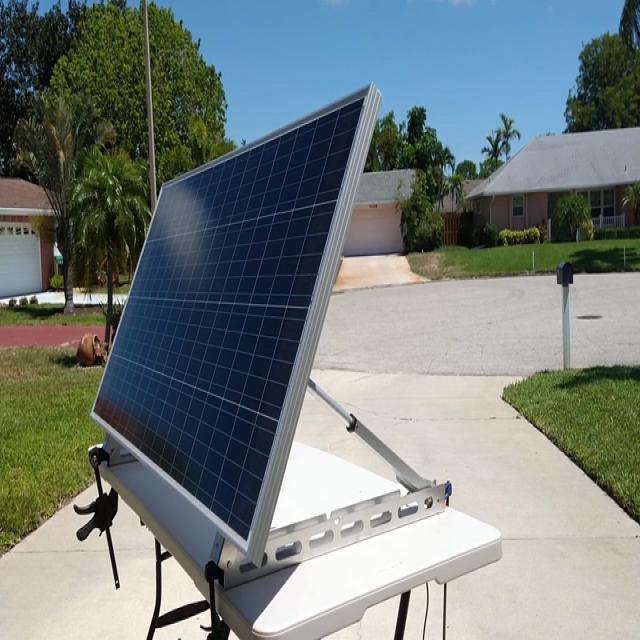Normal Solar Panel: (92, 85, 371, 554)
